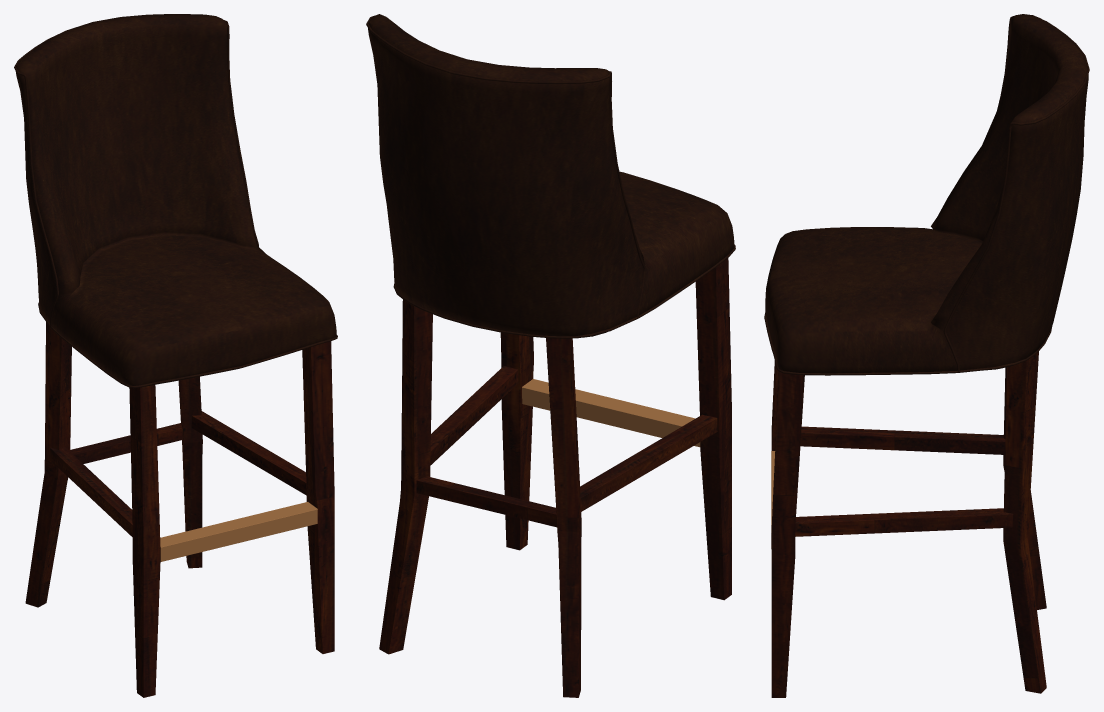
The model's file is chair.glb.
3 renders of one model, left to right at view 1: azimuth 30°, elevation 25°; view 2: azimuth 150°, elevation 25°; view 3: azimuth 270°, elevation 25°, orthographic. The views are drawn at different scales.
Bounding box in the file's own units: 0.4758 × 1.17 × 0.5916.
Materials: 3 (2 with a texture image).
